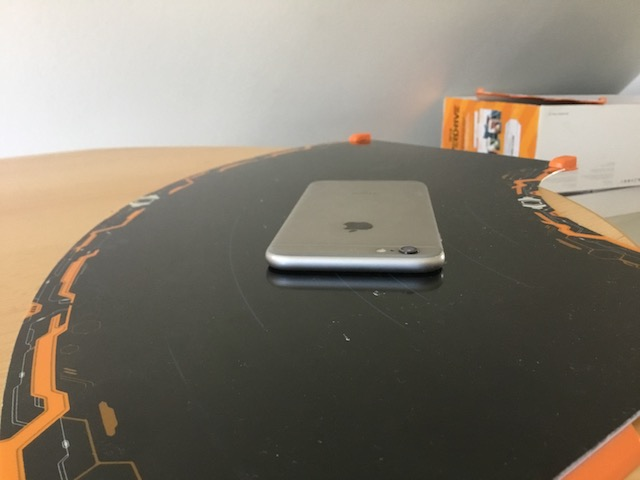phone: (261, 175, 449, 279)
